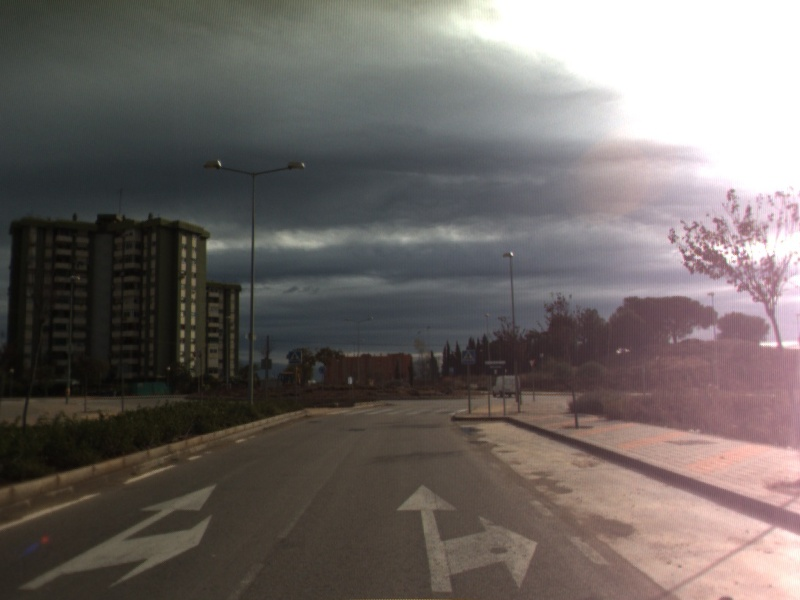STRAIGHT_RIGHT: (14, 481, 220, 592), (394, 482, 541, 594)
